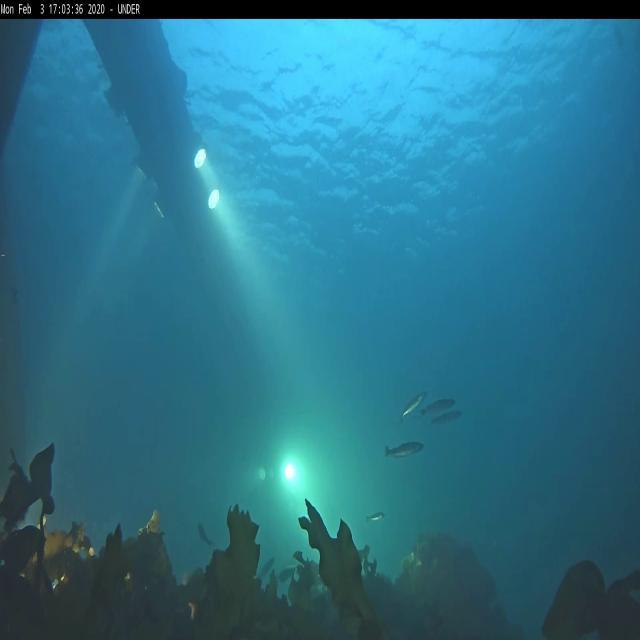fish: (196, 519, 216, 548), (383, 441, 424, 455), (426, 398, 456, 416), (400, 394, 424, 416), (366, 509, 385, 524), (433, 416, 461, 426)
